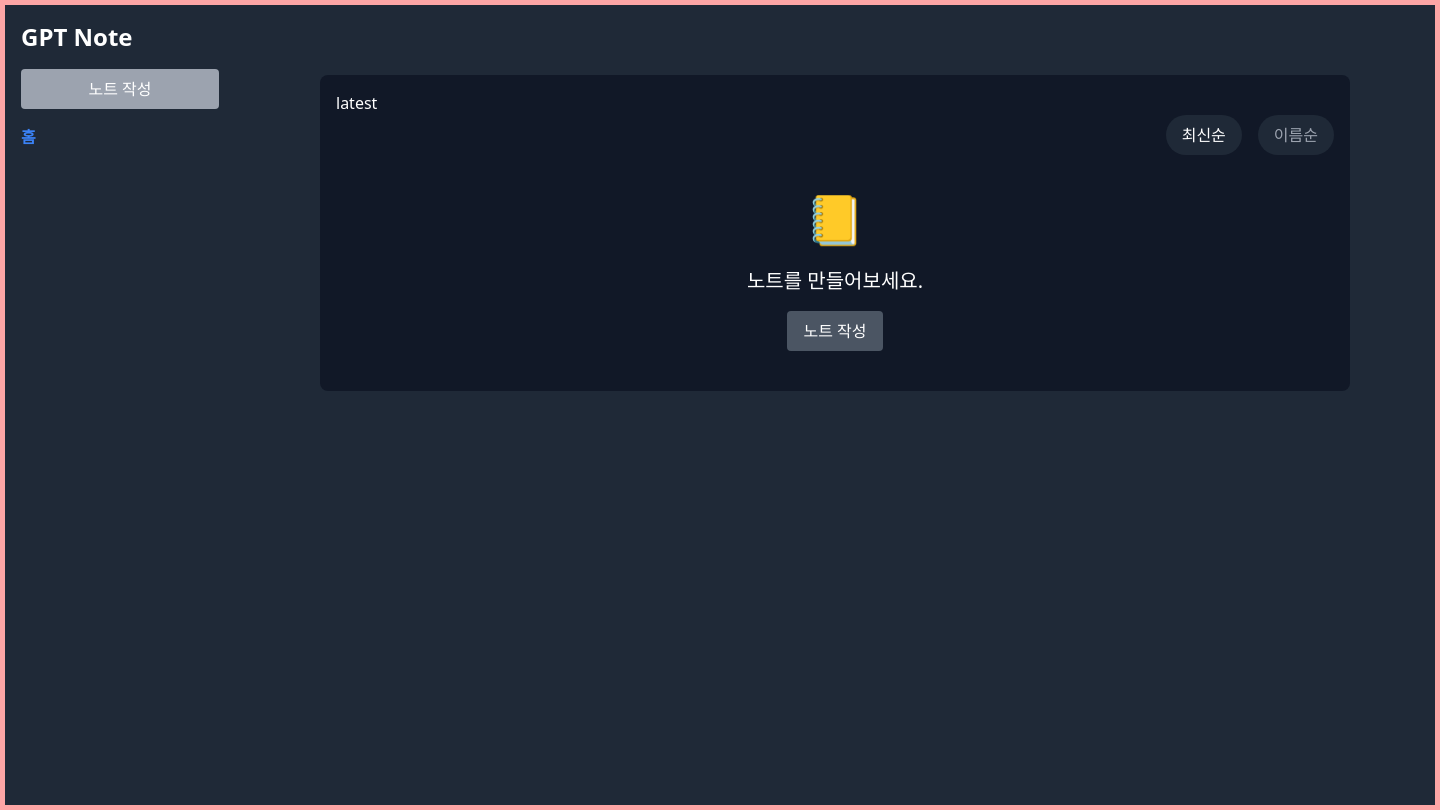
노트 추가 및 편집 기능 › 새로운 노트 추가, notes 라우팅, 사이드바에 링크 추가
Click the button "노트 작성" below "GPT Note". click: (120, 89)
box: top-left (21, 69), bottom-right (219, 109)
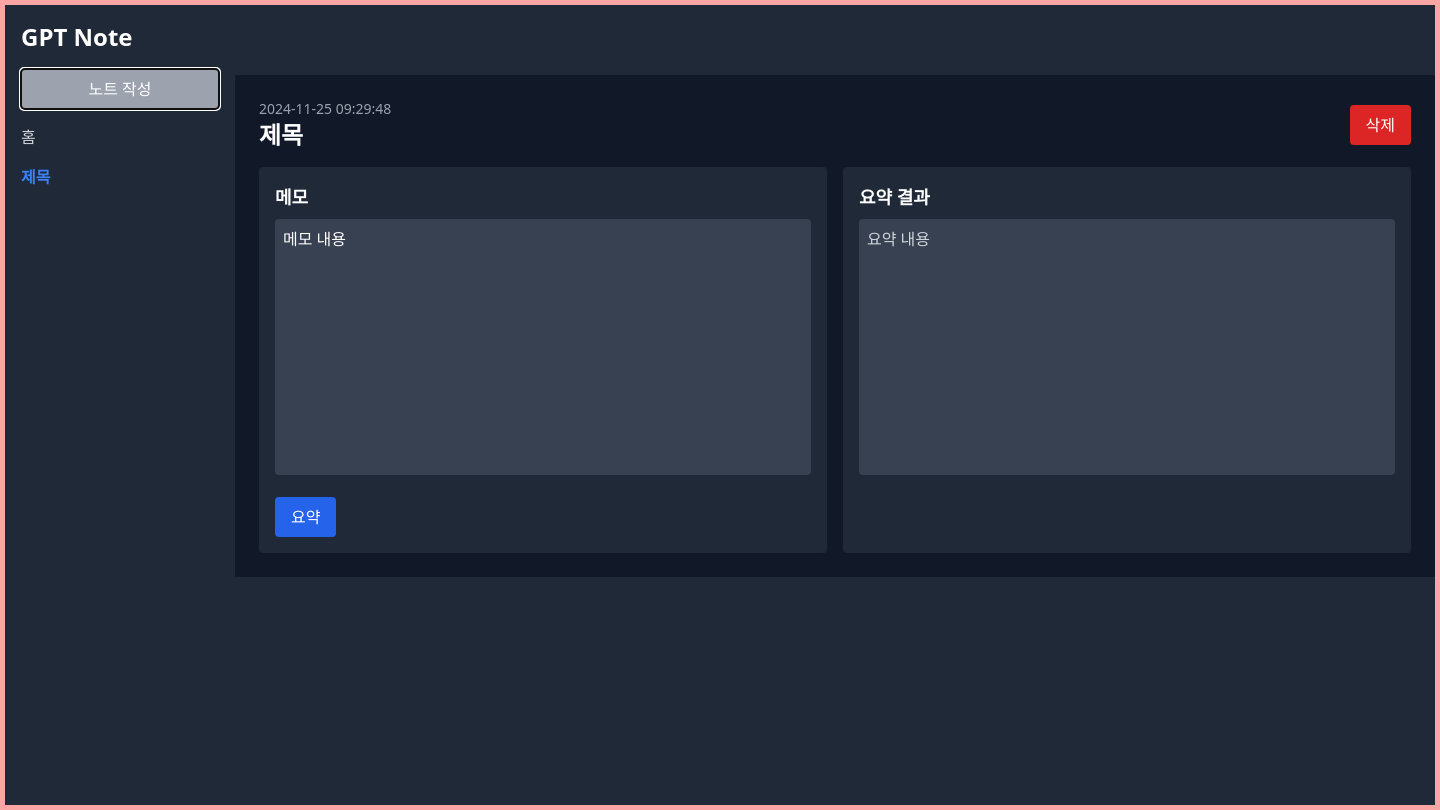
Check: the button "삭제" is shown, box top-left (1350, 105), bottom-right (1411, 145)
